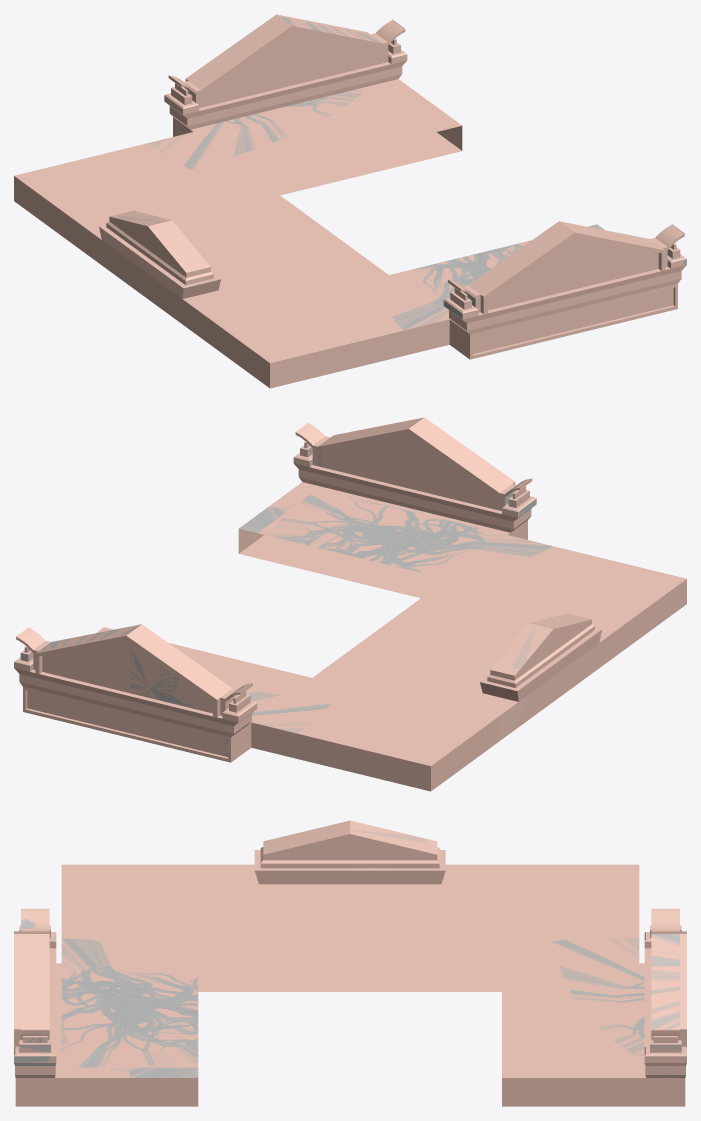
Rendered from top_part.fbx.
3 renders of one model, top to bottom at view 1: azimuth 30°, elevation 25°; view 2: azimuth 150°, elevation 25°; view 3: azimuth 270°, elevation 25°, orthographic. The views are drawn at different scales.
Visible parts, largest first — view 1: Outside; view 2: Outside; view 3: Outside.
Boxes of the visible parts, box(x1,y1,x2,y2) form: Outside: box(14, 14, 686, 388); Outside: box(14, 417, 686, 791); Outside: box(14, 820, 686, 1106).
Bounding box in the file's own units: 1071 × 263 × 1392.
